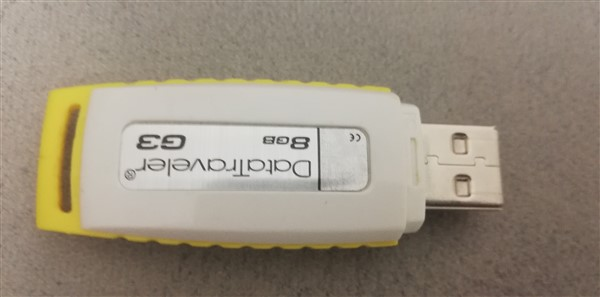flash disk: (33, 73, 513, 254)
